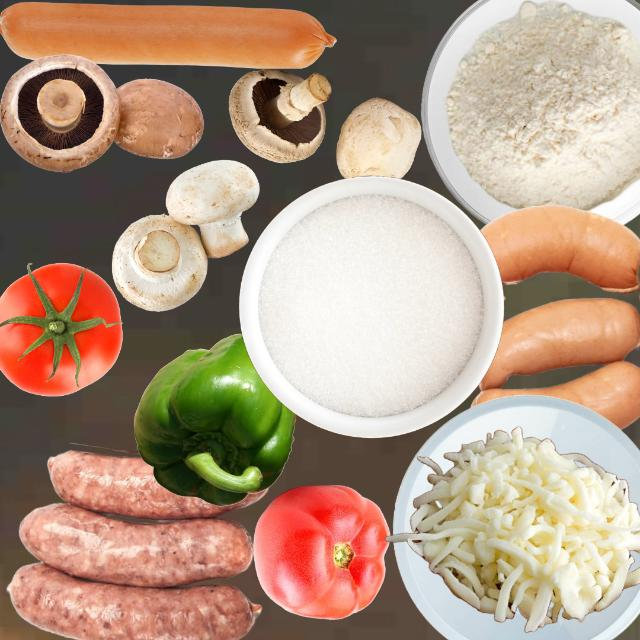Flour: (445, 0, 639, 210)
Sugar: (257, 192, 483, 417)
